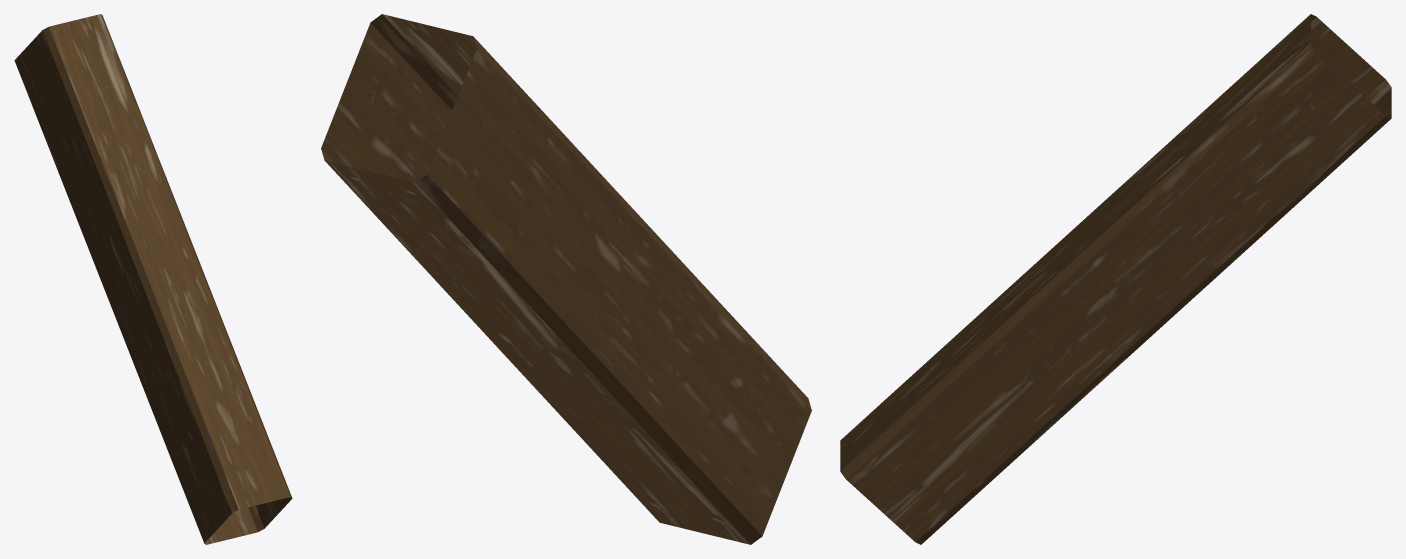
The model's file is M_Beam45.fbx.
3 views of the same model, side by side, from view 1: azimuth 30°, elevation 25°; view 2: azimuth 150°, elevation 25°; view 3: azimuth 270°, elevation 25° (orthographic). The views are drawn at different scales.
Parts seen in each view (by area): view 1: Cube.014; view 2: Cube.014; view 3: Cube.014.
Boxes of the visible parts, left/top/right/bottom form: Cube.014: left=14, top=14, right=292, bottom=544; Cube.014: left=321, top=14, right=811, bottom=544; Cube.014: left=840, top=14, right=1391, bottom=544.
Size of the model in its own units: 18.01 by 115 by 115.
